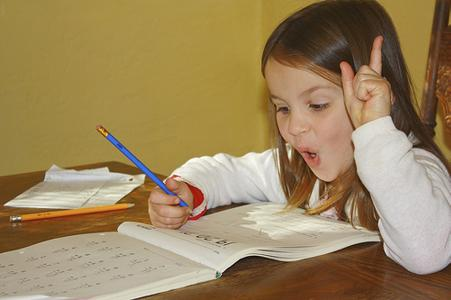person: (150, 4, 450, 273)
